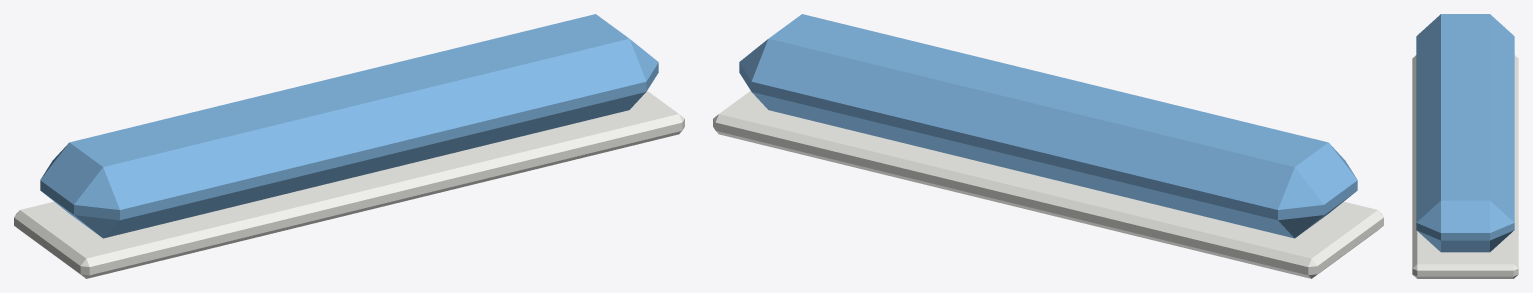
The model's file is keyboardsmash_m1_1.glb.
3 views of the same model, side by side, from view 1: azimuth 30°, elevation 25°; view 2: azimuth 150°, elevation 25°; view 3: azimuth 270°, elevation 25° (orthographic). The views are drawn at different scales.
Visible parts, largest first — view 1: keyboardsmash_m1_1_mesh; view 2: keyboardsmash_m1_1_mesh; view 3: keyboardsmash_m1_1_mesh.
Boxes of the visible parts, x1,y1,x2,y2 form: keyboardsmash_m1_1_mesh: (14, 14, 684, 278); keyboardsmash_m1_1_mesh: (713, 14, 1383, 278); keyboardsmash_m1_1_mesh: (1412, 14, 1518, 278).
Size of the model in its own units: 0.62 by 0.09 by 0.13.
